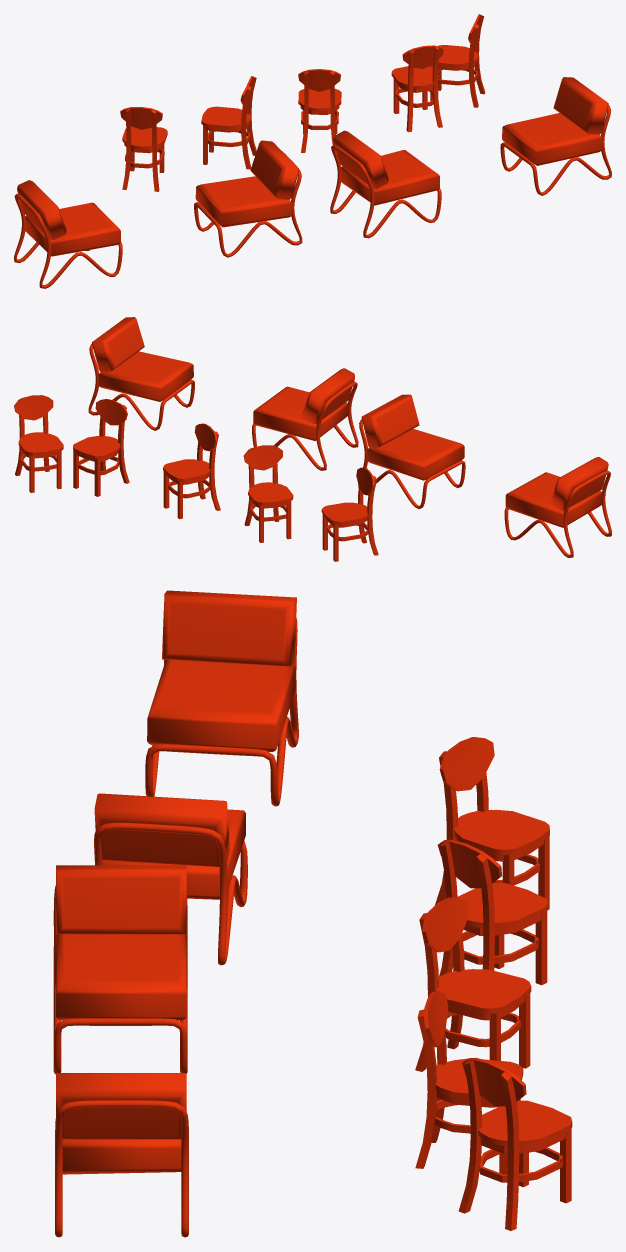
File: SBChairs.fbx
3 views of the same model, one above another, from view 1: azimuth 30°, elevation 25°; view 2: azimuth 150°, elevation 25°; view 3: azimuth 270°, elevation 25° (orthographic). The views are drawn at different scales.
Visible parts, largest first — view 1: SBChair00, SBChair03, SBChair01, SBChair02, WoodenShairs01_pCube140, WoodenShairs01_pCube137, WoodenShairs01_pCube138, WoodenShairs01_pCube136, WoodenShairs01_pCube139; view 2: SBChair03, SBChair00, SBChair02, SBChair01, WoodenShairs01_pCube140, WoodenShairs01_pCube139, WoodenShairs01_pCube138, WoodenShairs01_pCube136, WoodenShairs01_pCube137; view 3: SBChair02, SBChair01, SBChair00, SBChair03, WoodenShairs01_pCube139, WoodenShairs01_pCube136, WoodenShairs01_pCube138, WoodenShairs01_pCube137, WoodenShairs01_pCube140.
Part boxes in pixels (bbox=[...]): SBChair00: bbox=[500, 77, 611, 195]; SBChair03: bbox=[194, 140, 302, 257]; SBChair01: bbox=[330, 130, 441, 238]; SBChair02: bbox=[14, 180, 122, 288]; WoodenShairs01_pCube140: bbox=[391, 45, 443, 132]; WoodenShairs01_pCube137: bbox=[120, 107, 167, 191]; WoodenShairs01_pCube138: bbox=[201, 76, 256, 169]; WoodenShairs01_pCube136: bbox=[298, 69, 341, 152]; WoodenShairs01_pCube139: bbox=[430, 14, 485, 107]; SBChair03: bbox=[358, 394, 465, 509]; SBChair00: bbox=[88, 317, 194, 430]; SBChair02: bbox=[504, 457, 611, 557]; SBChair01: bbox=[252, 368, 358, 470]; WoodenShairs01_pCube140: bbox=[73, 399, 129, 496]; WoodenShairs01_pCube139: bbox=[14, 395, 63, 492]; WoodenShairs01_pCube138: bbox=[243, 445, 293, 542]; WoodenShairs01_pCube136: bbox=[163, 423, 220, 519]; WoodenShairs01_pCube137: bbox=[321, 467, 378, 561]; SBChair02: bbox=[145, 590, 298, 806]; SBChair01: bbox=[53, 865, 187, 1074]; SBChair00: bbox=[55, 1073, 188, 1237]; SBChair03: bbox=[94, 793, 247, 965]; WoodenShairs01_pCube139: bbox=[458, 1057, 572, 1230]; WoodenShairs01_pCube136: bbox=[415, 897, 531, 1071]; WoodenShairs01_pCube138: bbox=[437, 839, 547, 985]; WoodenShairs01_pCube137: bbox=[435, 737, 549, 910]; WoodenShairs01_pCube140: bbox=[415, 991, 523, 1174].
Bounding box in the file's own units: 14.66 × 2.15 × 6.34.
